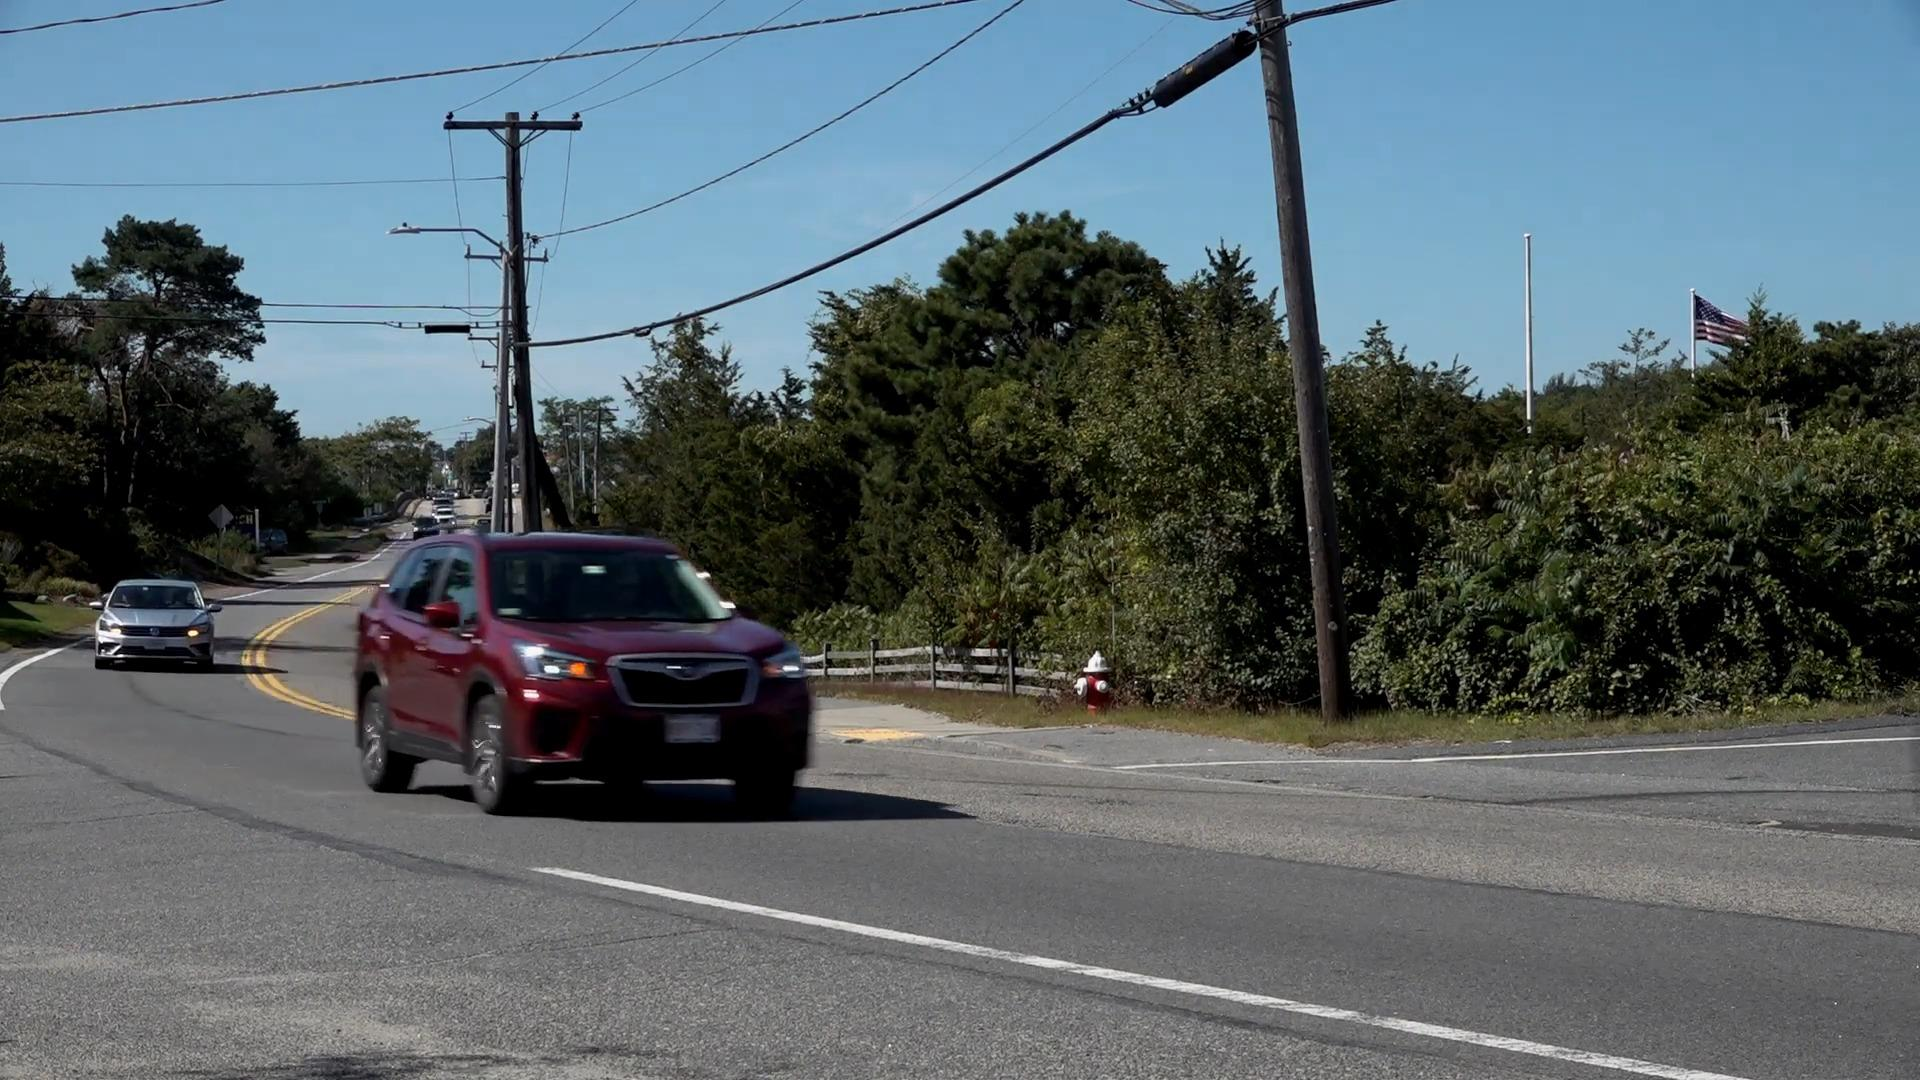sedans: (96, 580, 219, 669)
suv: (356, 530, 816, 823)
